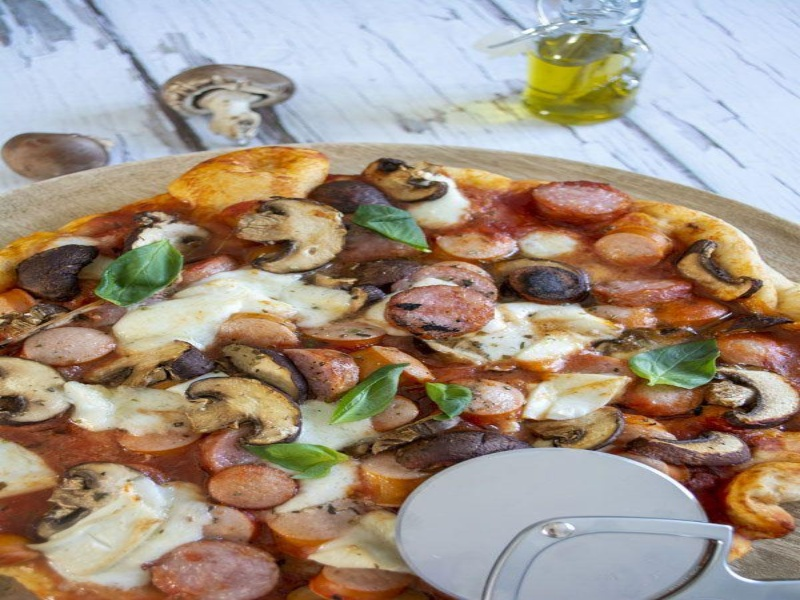champignon: (179, 372, 311, 453), (233, 186, 348, 275)
